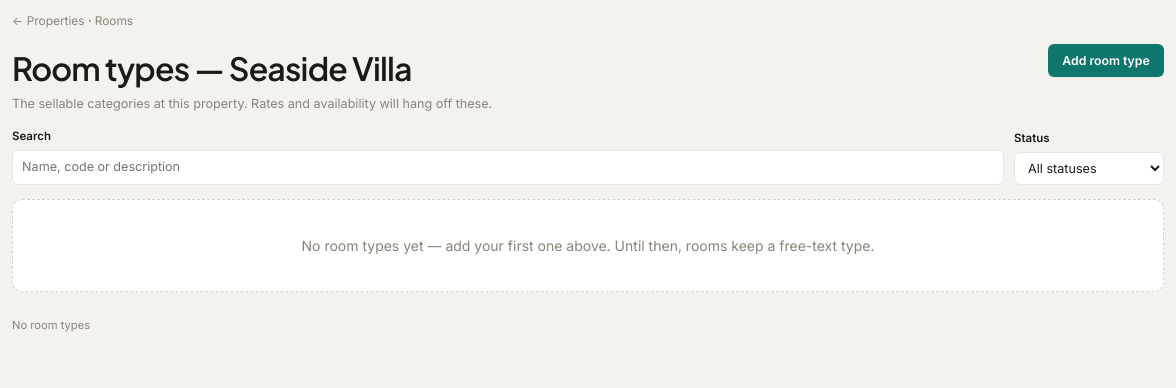
Scenario: RoomTypesPage — filters › offers a way out of a filtered empty state
Check: the text "No room types yet" is shown, box [302,236,874,254]
Select "Active" in the dropdown labelled "Status": (1089, 168) [1014,152,1164,184]
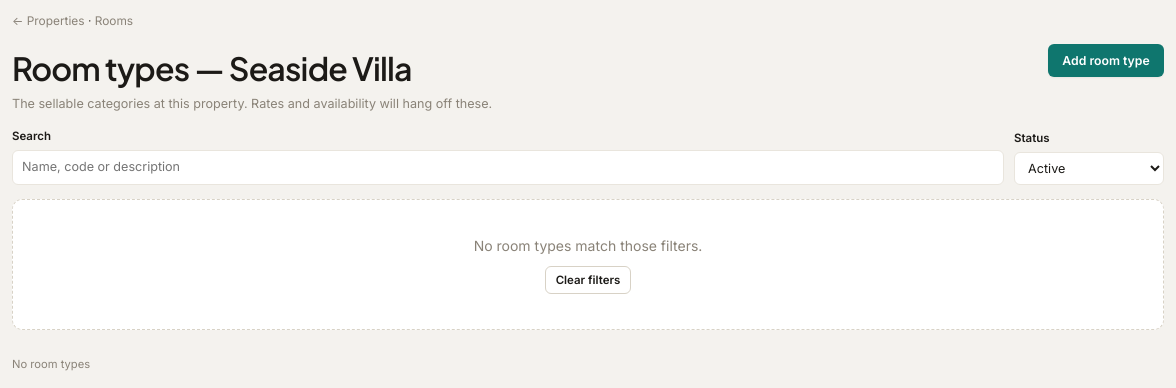
Check: the text "No room types match those filters." is shown, box [474,236,702,254]
Click the button "Clear filters": (588, 280) [545,266,631,294]
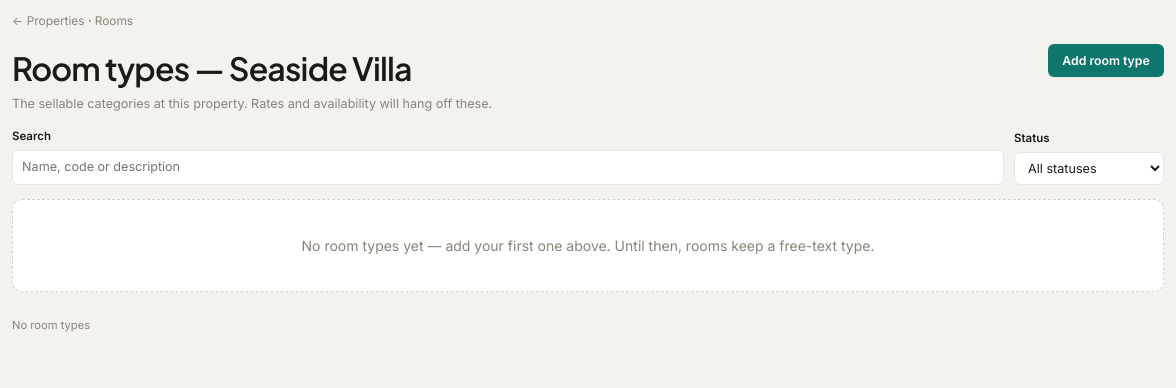
Check: the text "No room types yet" is shown, box [302,236,874,254]
